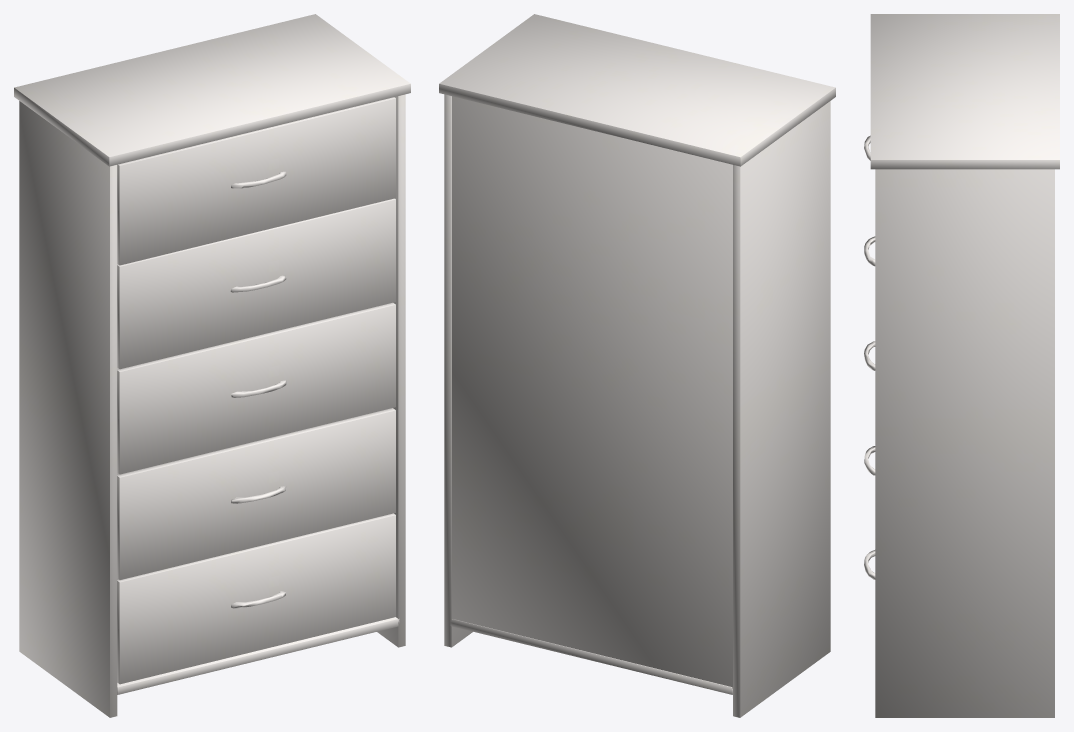
Rendered from abo-B07PXFVNXR.glb.
The picture shows the model from 3 angles, left to right: view 1: azimuth 30°, elevation 25°; view 2: azimuth 150°, elevation 25°; view 3: azimuth 270°, elevation 25°; orthographic projection.
Parts seen in each view (by area): view 1: RootNode; view 2: RootNode; view 3: RootNode.
Boxes of the visible parts, x1,y1,x2,y2 form: RootNode: (14, 14, 410, 717); RootNode: (439, 14, 835, 717); RootNode: (864, 14, 1059, 717).
Bounding box in the file's own units: 0.7027 × 1.25 × 0.398.
1 material, 1 textured.
